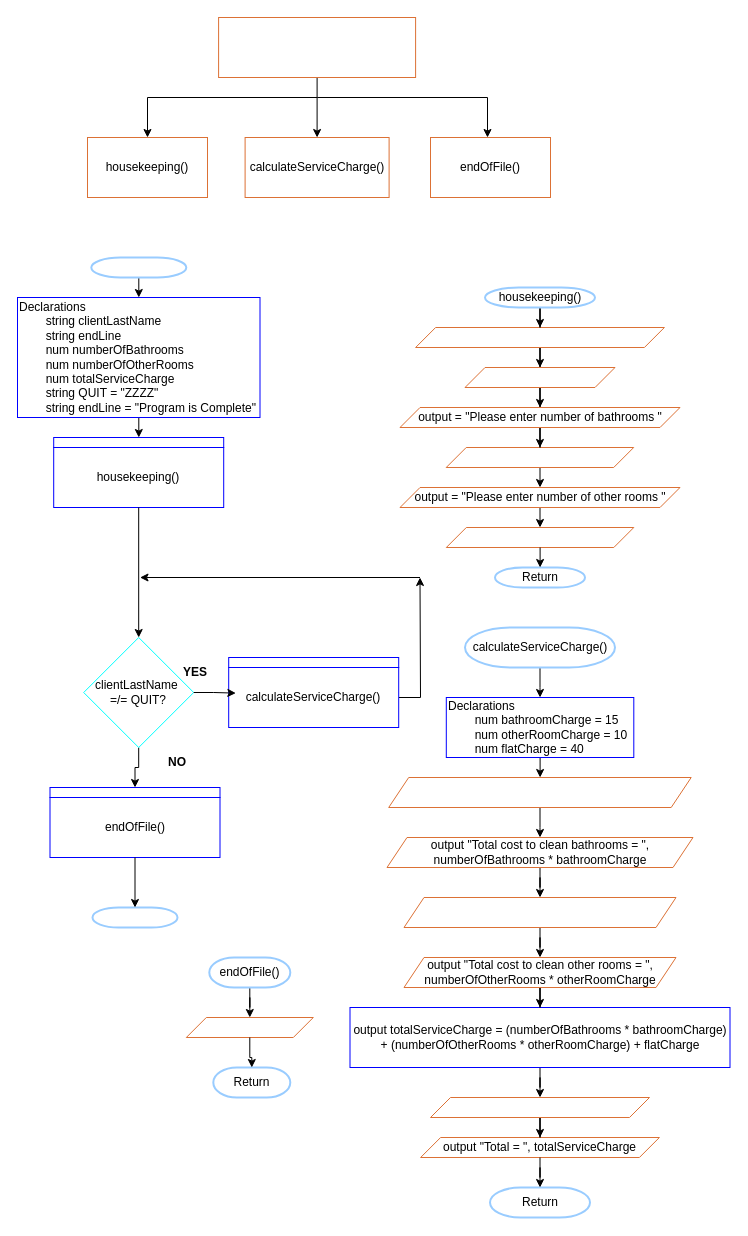
Image size: 748x1236. Some labels were removed from this diagram. The shapes that lost their labels are listed below. From the top down, each one's centre as x and y in pixels, then its label:
(317,47): Main Program = "Hazel's Housekeeping Service"
(138,267): Start
(539,337): output = "Please enter client's last name "
(539,377): input clientLastName
(539,457): input numberOfBathrooms
(539,537): input numberOfOtherRooms
(539,792): output "Total bathrooms = ", numberOfBathrooms
(134,917): Stop
(539,912): output "Total number of other rooms = ", numberOfOtherRooms
(249,1027): output = endLine
(540,1107): output "Client = ", clientLastName
